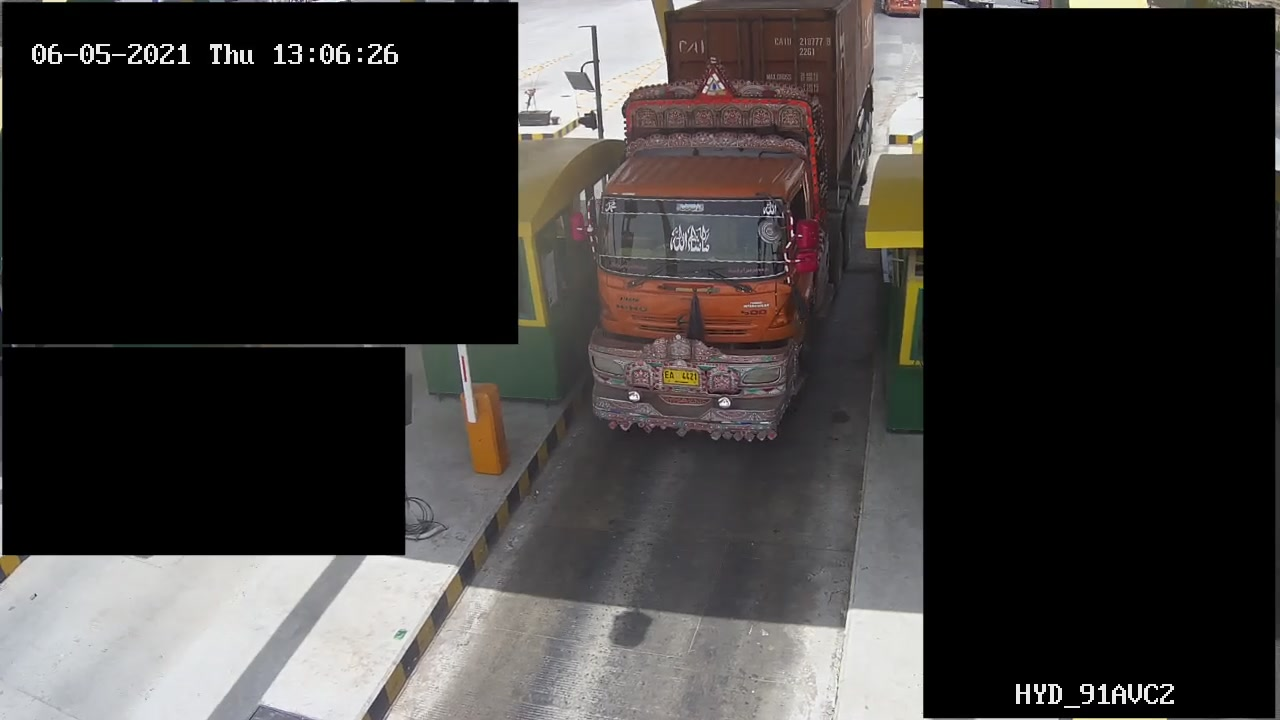F6: (581, 2, 882, 456)
